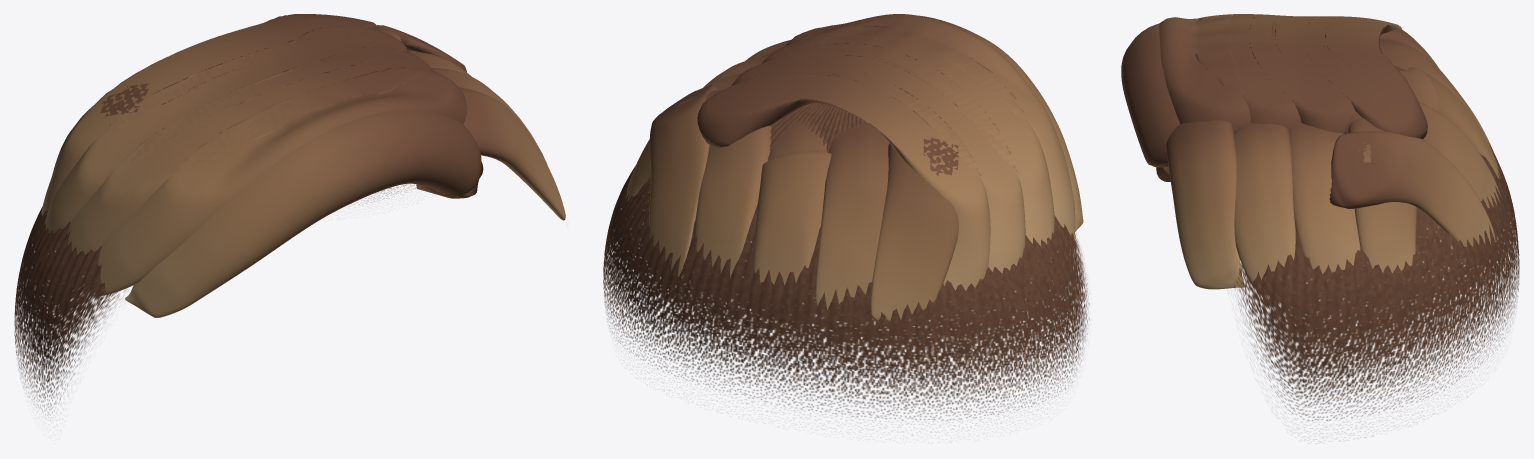
The model's file is Masculine-taper-pashmina256-hair-ombre.glb.
3 views of the same model, side by side, from view 1: azimuth 30°, elevation 25°; view 2: azimuth 150°, elevation 25°; view 3: azimuth 270°, elevation 25° (orthographic). The views are drawn at different scales.
Parts seen in each view (by area): view 1: 226 hair / Hair252 / sculpted locks, 226 hair / Hair252 / gentle tonal variation, 226 hair / Hair256 / selected B sides; view 2: 226 hair / Hair252 / sculpted locks, 226 hair / Hair256 / selected B sides, 226 hair / Hair252 / gentle tonal variation; view 3: 226 hair / Hair252 / sculpted locks, 226 hair / Hair256 / selected B sides, 226 hair / Hair252 / gentle tonal variation.
Boxes of the visible parts, x1=… form: 226 hair / Hair252 / sculpted locks: x1=41, y1=14, x2=547, y2=296; 226 hair / Hair252 / gentle tonal variation: x1=125, y1=87, x2=565, y2=317; 226 hair / Hair256 / selected B sides: x1=14, y1=184, x2=420, y2=415; 226 hair / Hair252 / sculpted locks: x1=626, y1=14, x2=1075, y2=323; 226 hair / Hair256 / selected B sides: x1=603, y1=103, x2=1089, y2=428; 226 hair / Hair252 / gentle tonal variation: x1=745, y1=15, x2=1083, y2=319; 226 hair / Hair252 / sculpted locks: x1=1159, y1=14, x2=1503, y2=294; 226 hair / Hair256 / selected B sides: x1=1234, y1=66, x2=1519, y2=441; 226 hair / Hair252 / gentle tonal variation: x1=1121, y1=23, x2=1492, y2=289.
Size of the model in its own units: 0.972 by 0.6191 by 0.7438.
3 materials, 1 textured.
